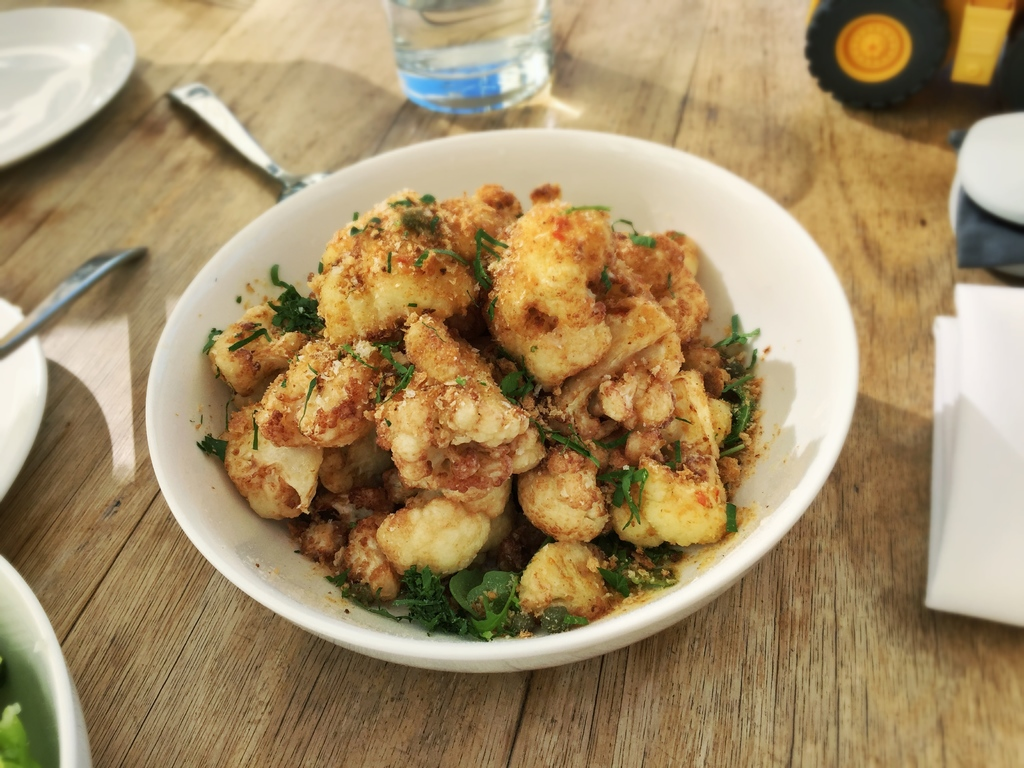plate: (0, 6, 145, 154)
